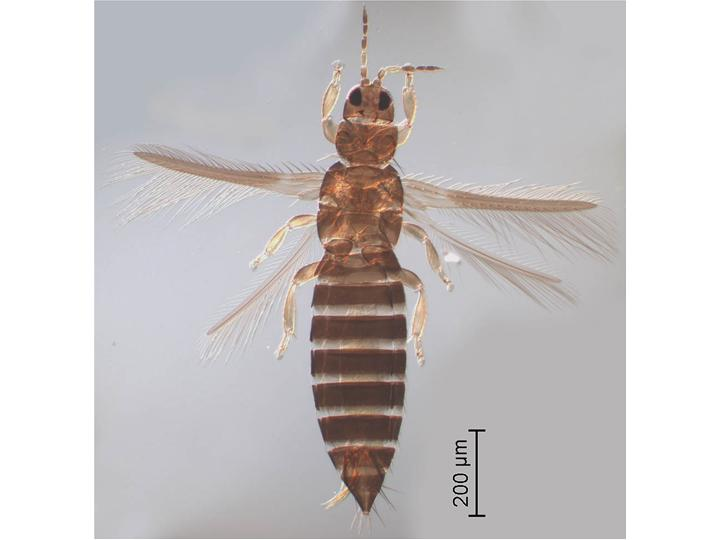Thrips: (138, 19, 597, 532)
